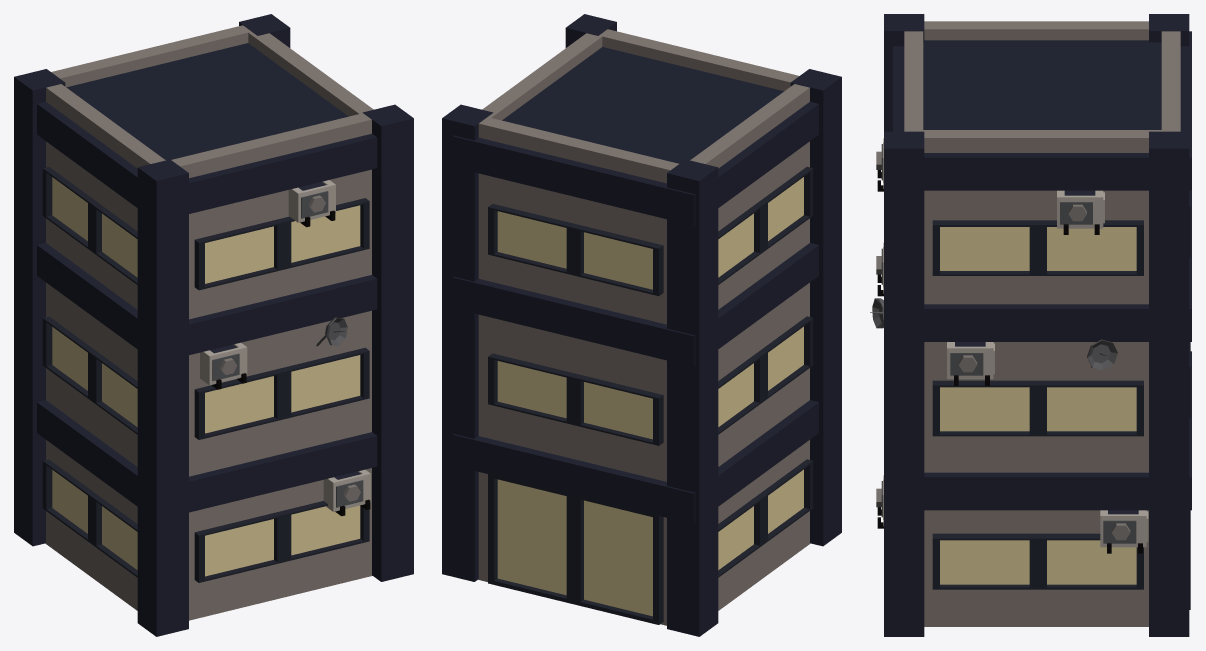
The model's file is Building2B.fbx.
3 views of the same model, side by side, from view 1: azimuth 30°, elevation 25°; view 2: azimuth 150°, elevation 25°; view 3: azimuth 270°, elevation 25° (orthographic). The views are drawn at different scales.
Parts seen in each view (by area): view 1: Cylinder.020_Cylinder.000; view 2: Cylinder.020_Cylinder.000; view 3: Cylinder.020_Cylinder.000.
Boxes of the visible parts, box(x1,y1,x2,y2) form: Cylinder.020_Cylinder.000: box(14, 14, 413, 636); Cylinder.020_Cylinder.000: box(442, 14, 841, 636); Cylinder.020_Cylinder.000: box(870, 14, 1191, 636).
Bounding box in the file's own units: 4.62 × 7.6 × 4.53.
